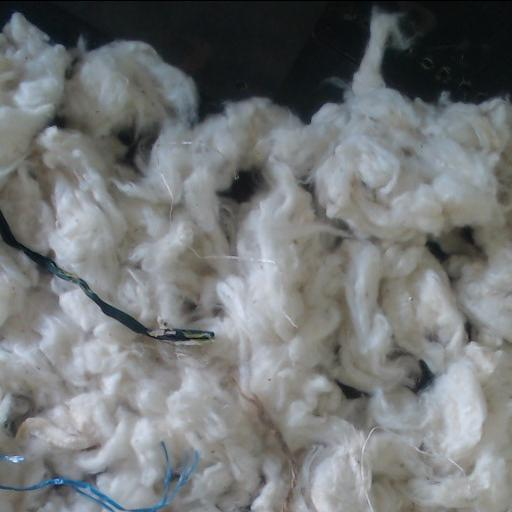cloth: (0, 210, 213, 341)
cotton: (0, 7, 511, 512)
jute: (240, 394, 297, 512)
thread: (0, 441, 198, 512), (0, 453, 23, 462)
